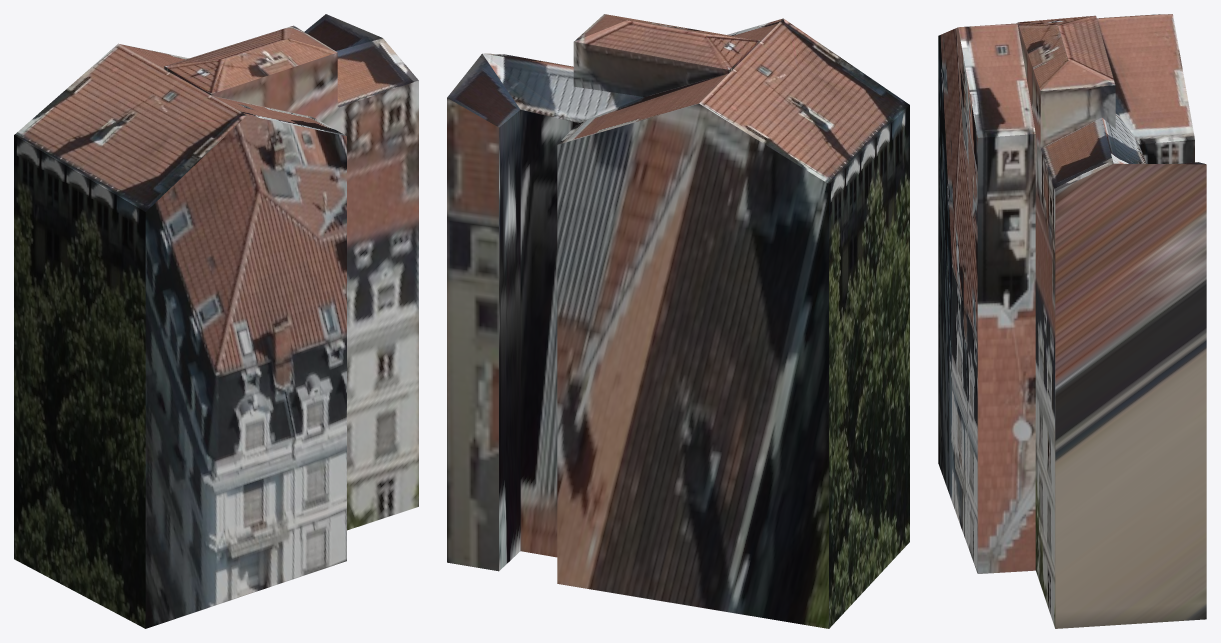
3 views of the same model, side by side, from view 1: azimuth 30°, elevation 25°; view 2: azimuth 150°, elevation 25°; view 3: azimuth 270°, elevation 25° (orthographic). The views are drawn at different scales.
Visible parts, largest first — view 1: Z_UP; view 2: Z_UP; view 3: Z_UP.
Part boxes in pixels (<box>): Z_UP: <box>14,14,418,628</box>; Z_UP: <box>447,14,909,628</box>; Z_UP: <box>938,14,1206,628</box>.
Bounding box in the file's own units: 20.75 × 27.4 × 13.14.
2 materials, 1 textured.
